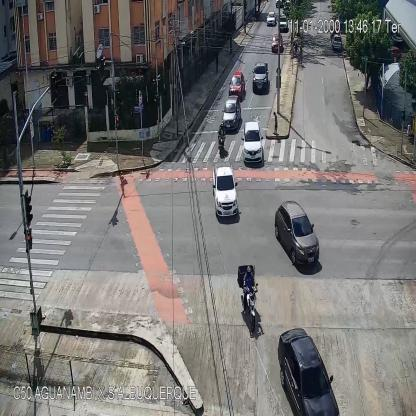bicycle: (290, 38, 299, 56)
car: (278, 329, 338, 416), (275, 200, 320, 266), (212, 159, 240, 217), (242, 119, 264, 168), (222, 95, 240, 131), (252, 62, 270, 94), (229, 72, 244, 98), (271, 34, 284, 54), (266, 10, 276, 26), (332, 36, 342, 51), (278, 14, 286, 31)
motorbike: (241, 266, 258, 335), (218, 123, 224, 160)
person: (215, 51, 220, 76), (299, 46, 304, 67), (273, 110, 277, 136)
